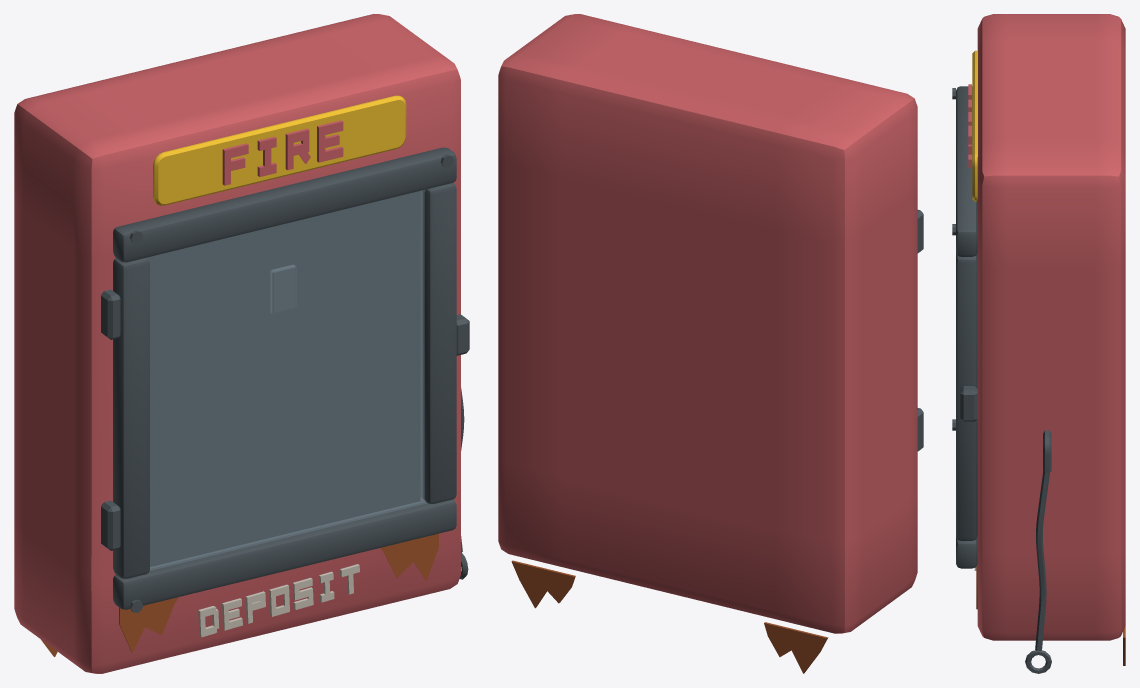
File: emergency_cabinet.glb
3 views of the same model, side by side, from view 1: azimuth 30°, elevation 25°; view 2: azimuth 150°, elevation 25°; view 3: azimuth 270°, elevation 25° (orthographic). The views are drawn at different scales.
Visible parts, largest first — view 1: Box, Glass; view 2: Box; view 3: Box.
Part boxes in pixels (bbox=[...]): Box: bbox=[14, 14, 469, 673]; Glass: bbox=[147, 190, 426, 570]; Box: bbox=[498, 14, 923, 673]; Box: bbox=[952, 14, 1125, 673].
Size of the model in its own units: 0.4856 by 0.65 by 0.199.
